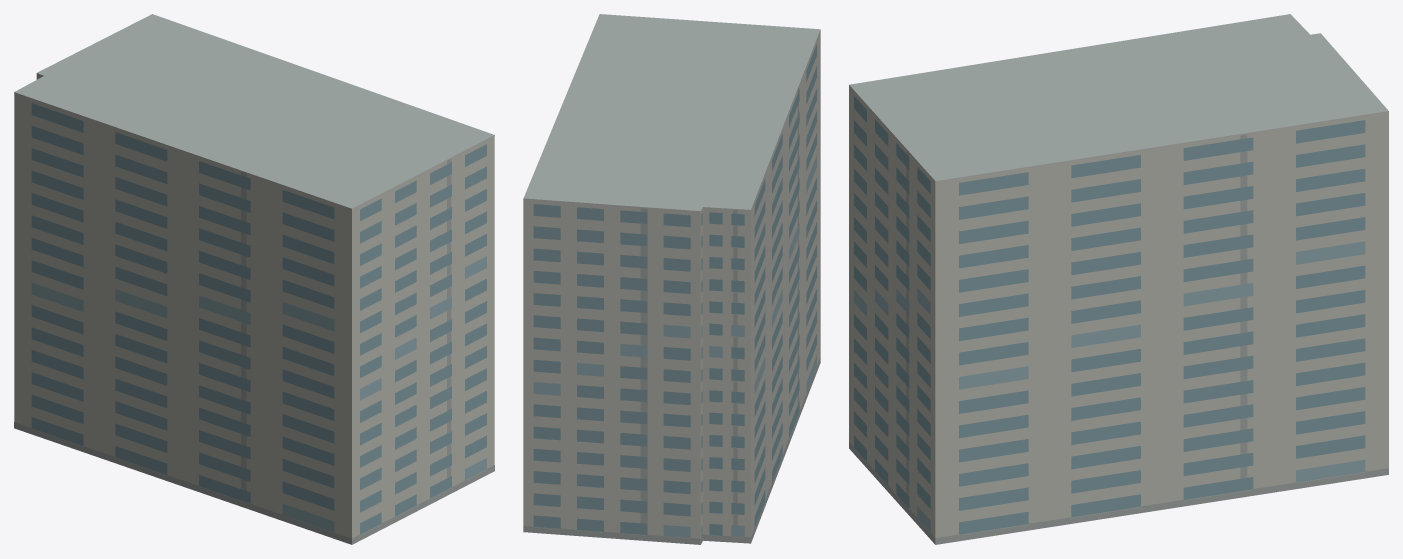
File: survey-upis-32767181.glb
3 renders of one model, left to right at view 1: azimuth 30°, elevation 25°; view 2: azimuth 150°, elevation 25°; view 3: azimuth 270°, elevation 25°, orthographic. The views are drawn at different scales.
Parts seen in each view (by area): view 1: survey-upis-32767181.tmp; view 2: survey-upis-32767181.tmp; view 3: survey-upis-32767181.tmp.
Boxes of the visible parts, x1=… form: survey-upis-32767181.tmp: x1=14, y1=14, x2=494, y2=544; survey-upis-32767181.tmp: x1=523, y1=14, x2=820, y2=544; survey-upis-32767181.tmp: x1=849, y1=14, x2=1388, y2=544.
Size of the model in its own units: 61.8 by 62.7 by 84.33.
